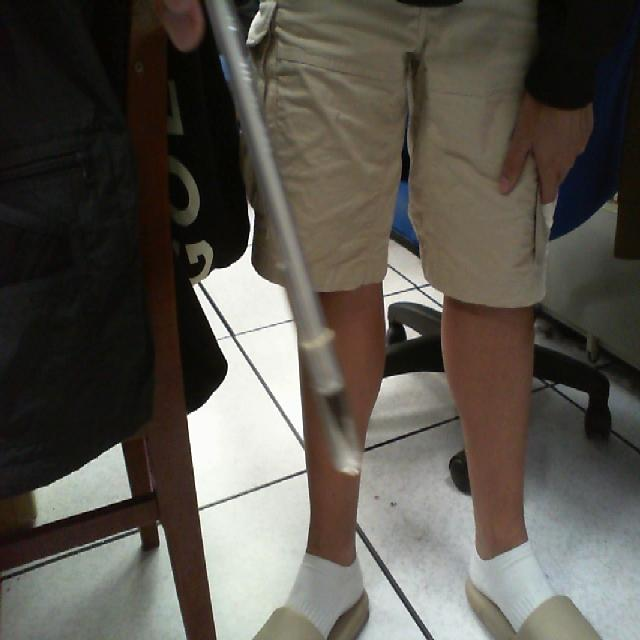Pen: (198, 0, 387, 510)
